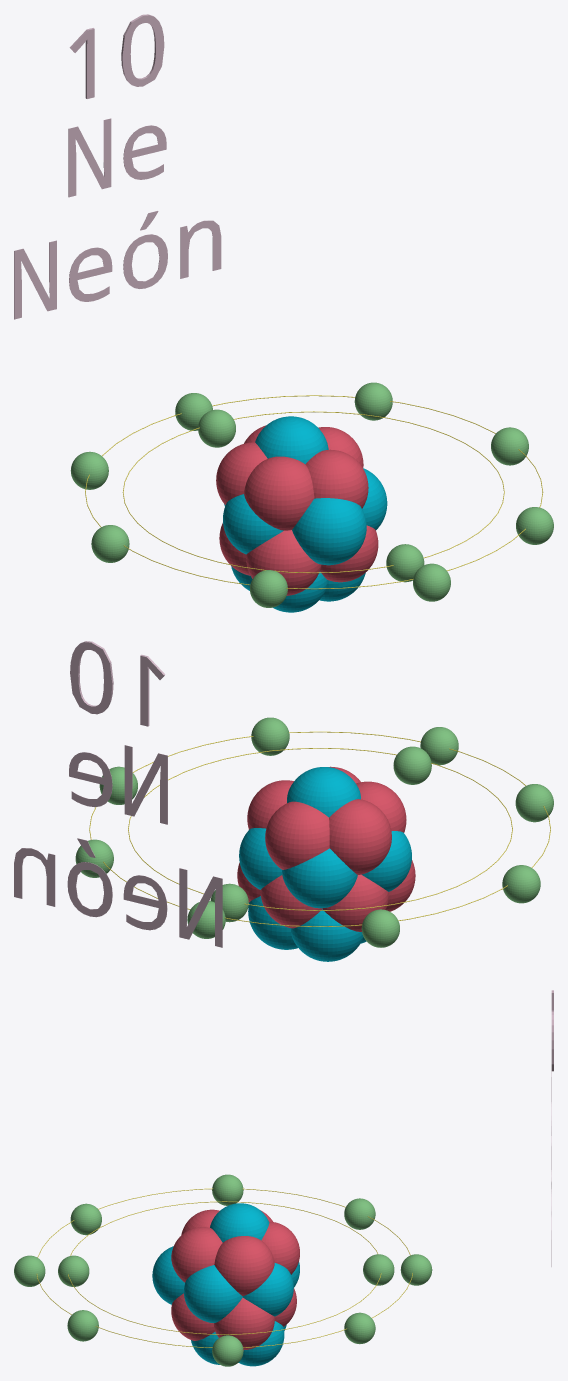
Rendered from 10-NEON-ANDROID.glb.
3 renders of one model, top to bottom at view 1: azimuth 30°, elevation 25°; view 2: azimuth 150°, elevation 25°; view 3: azimuth 270°, elevation 25°, orthographic. The views are drawn at different scales.
Parts seen in each view (by area): view 1: Mesh_Mesh_head_geo.001_lambert2SG.001; view 2: Mesh_Mesh_head_geo.001_lambert2SG.001; view 3: Mesh_Mesh_head_geo.001_lambert2SG.001.
Part boxes in pixels (x1,y1,x2,y2): Mesh_Mesh_head_geo.001_lambert2SG.001: [14, 14, 553, 612]; Mesh_Mesh_head_geo.001_lambert2SG.001: [14, 641, 553, 961]; Mesh_Mesh_head_geo.001_lambert2SG.001: [14, 990, 553, 1366].
Bounding box in the file's own units: 131 × 125 × 172.
